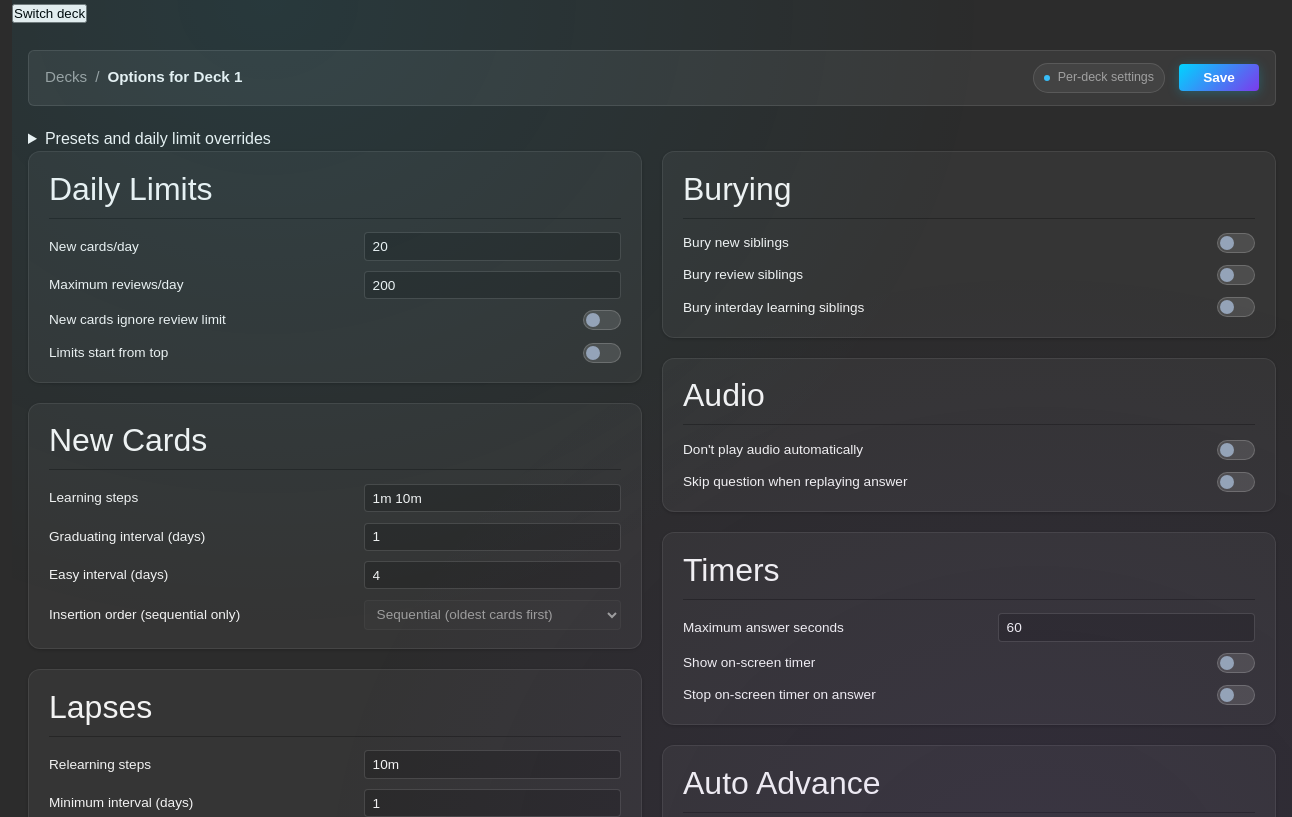
Test: preset attachment blocks a competing main settings save
Expected: the number field labelled "New cards/day" is shown, [364,232,621,260]
Click the heading "Presets and daily limit overrides" at (158, 138), box [45,130,271,147]
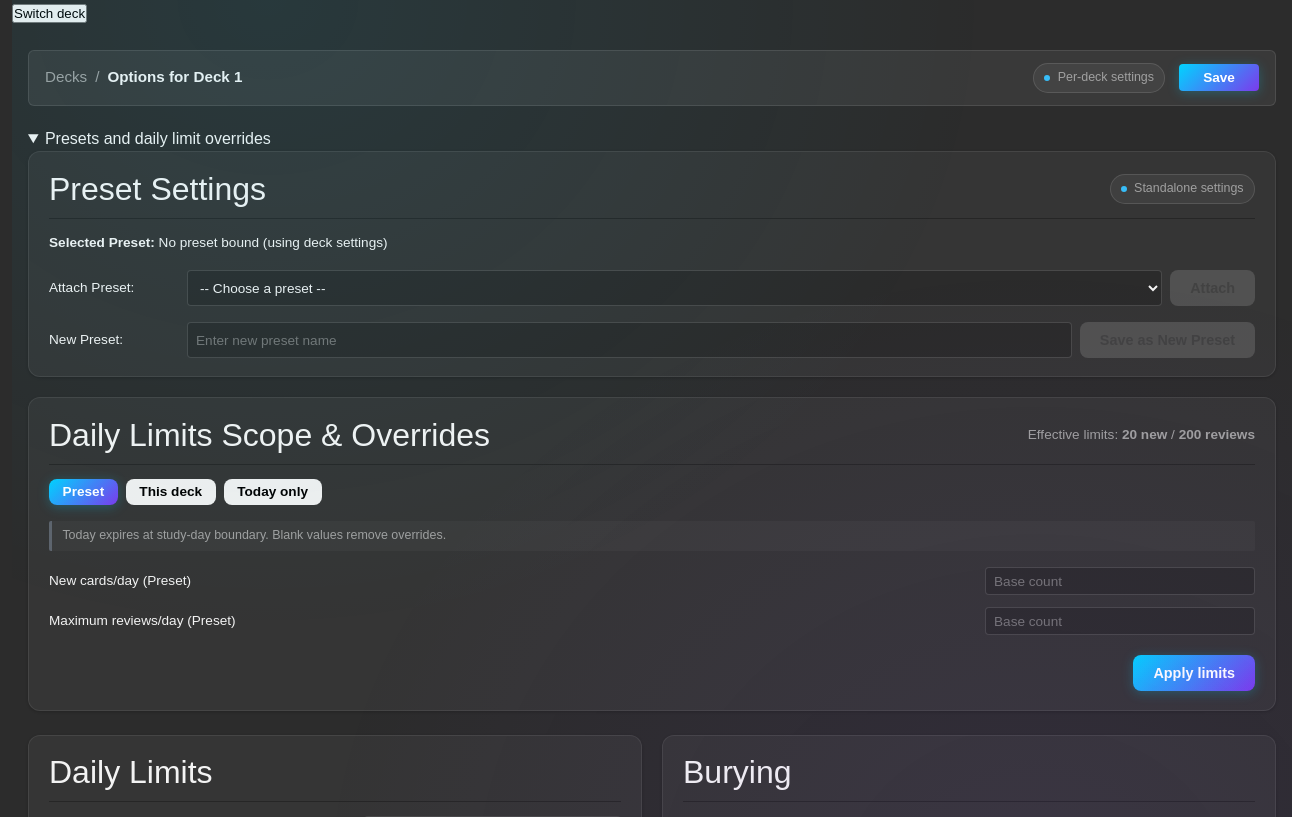
Select "Shared (0 decks)" in the dropdown named "Select preset to attach" at (675, 288), box [187,270,1162,306]
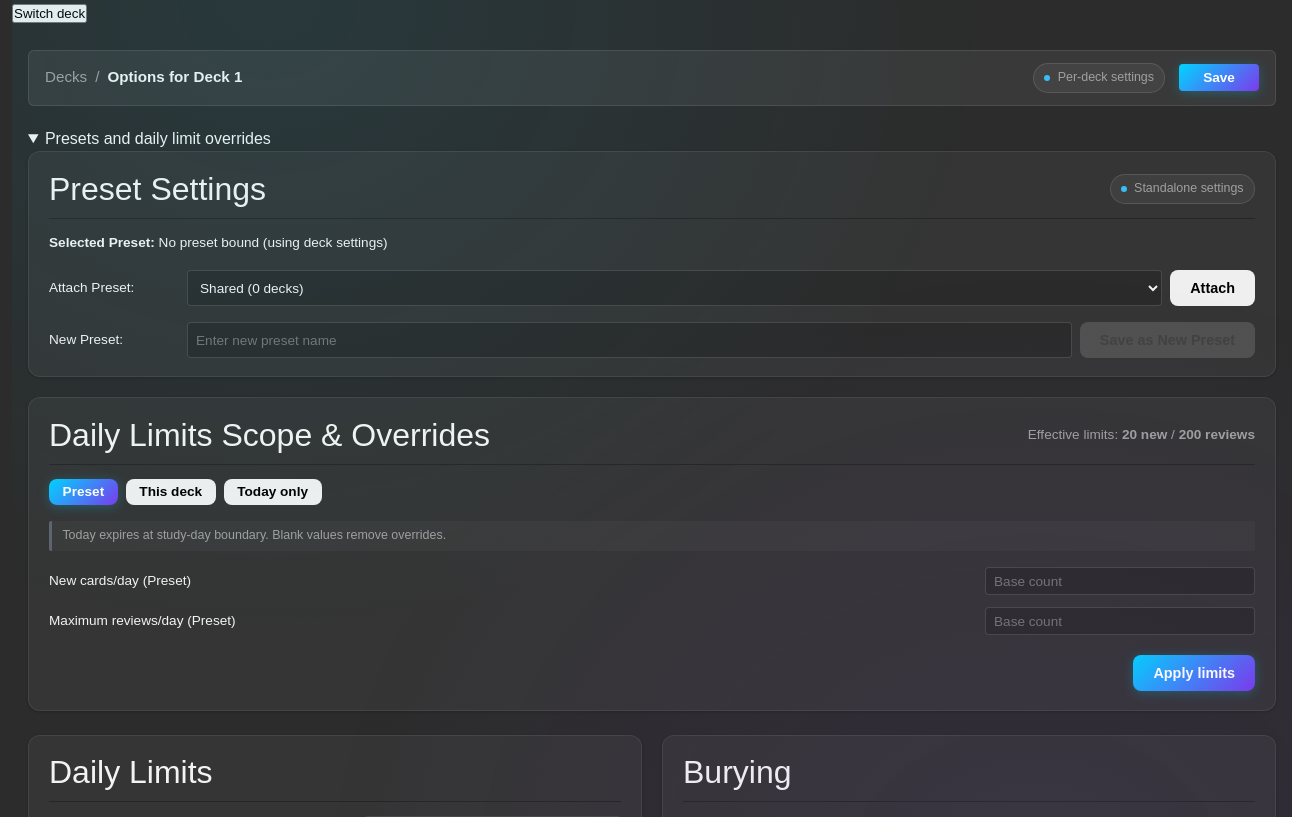
Click the button "Attach" at (1213, 288), box [1170,270,1255,306]
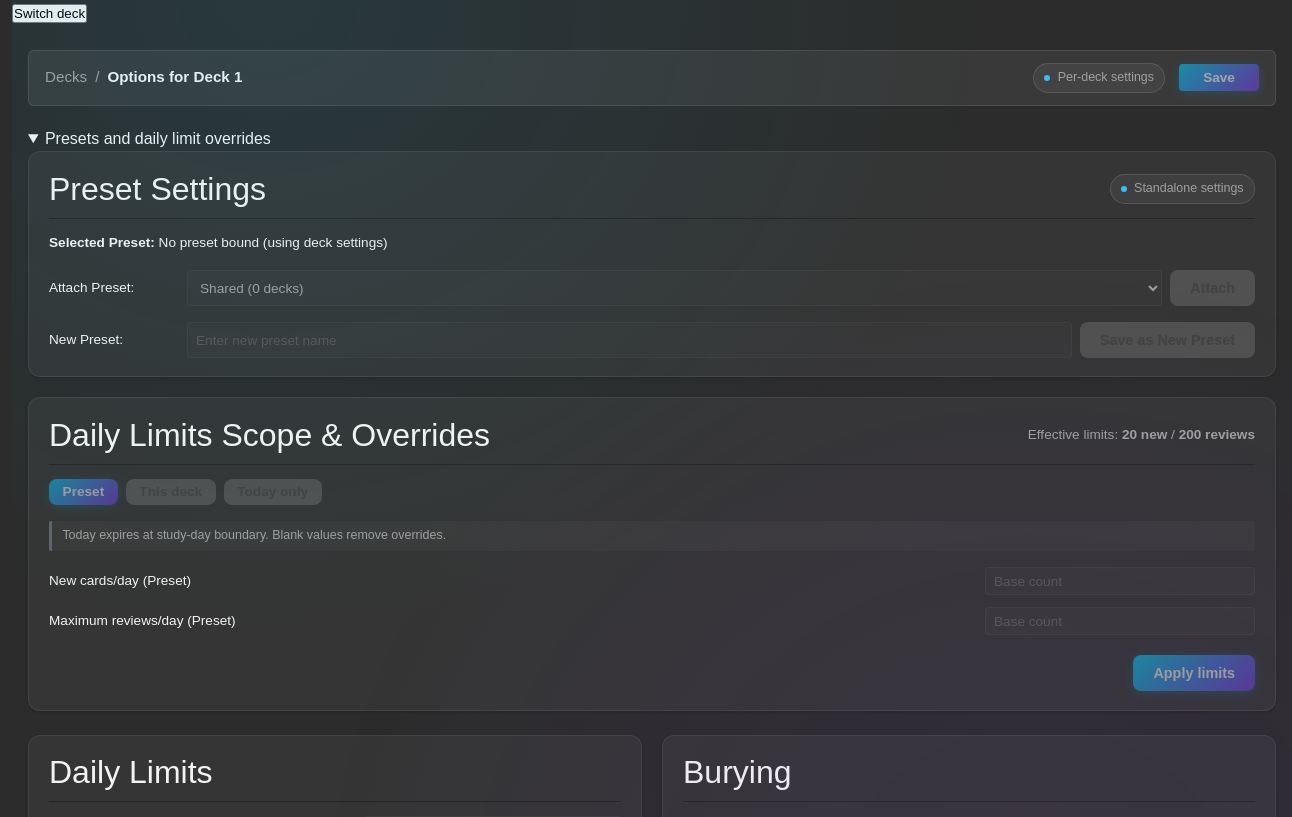
Expected: the button "Save" is disabled
Click the button "Save" at (1219, 78), box [1179,64,1259,92]
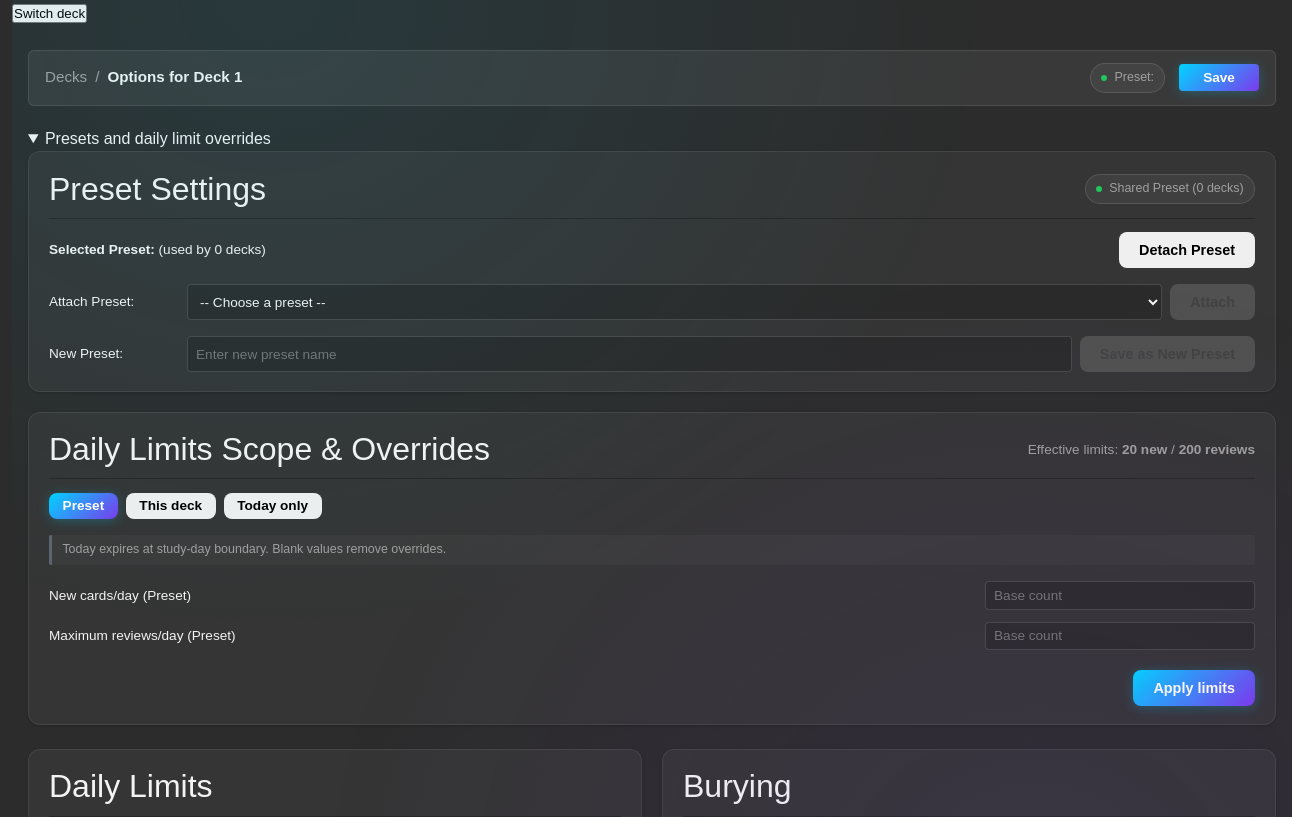
Expected: the button "Save" is enabled, [1179,64,1259,92]
